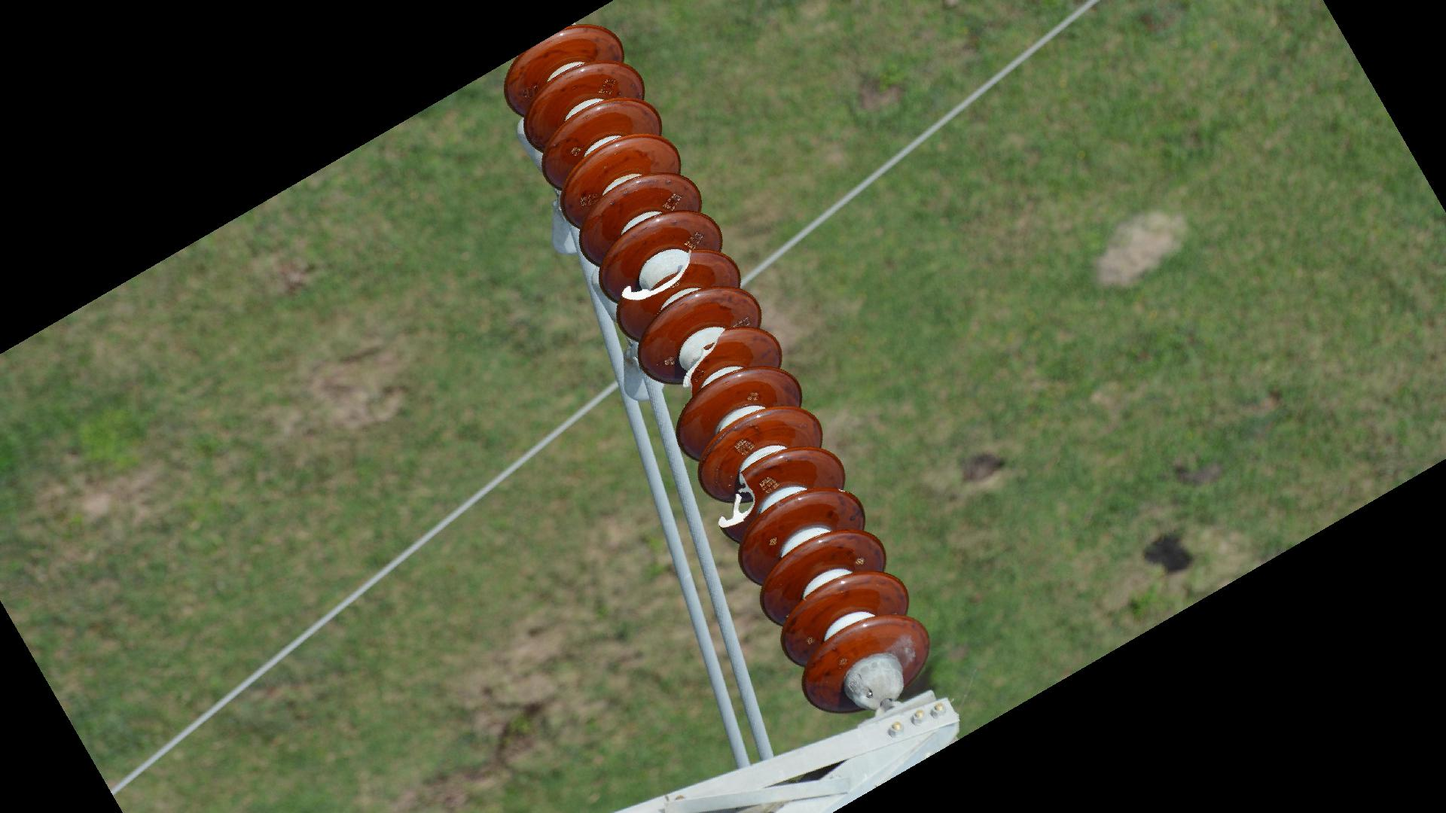insulator: (498, 19, 939, 717)
insulator_breakage: (617, 243, 698, 306), (677, 326, 727, 394), (714, 467, 758, 535)
